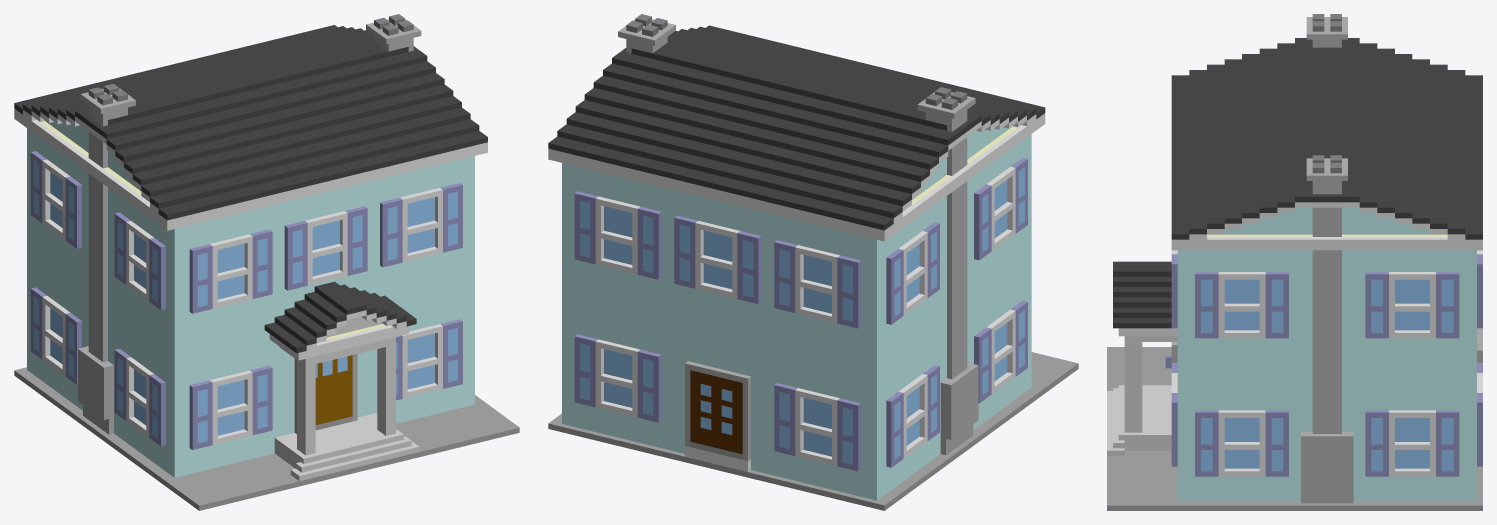
The model's file is obj_house4c.obj.
The picture shows the model from 3 angles, left to right: view 1: azimuth 30°, elevation 25°; view 2: azimuth 150°, elevation 25°; view 3: azimuth 270°, elevation 25°; orthographic projection. The views are drawn at different scales.
Size of the model in its own units: 6.4 by 6.4 by 6.4.
1 material, 1 textured.
